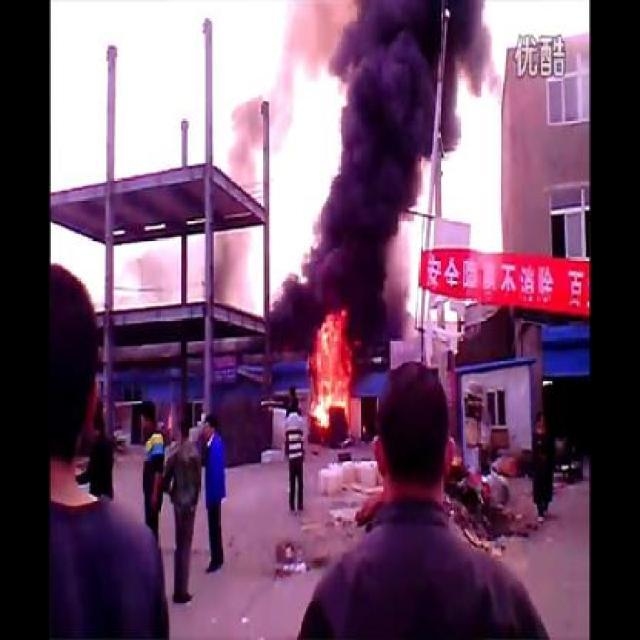Fire: (306, 302, 360, 444)
Smoke: (295, 8, 483, 301)
